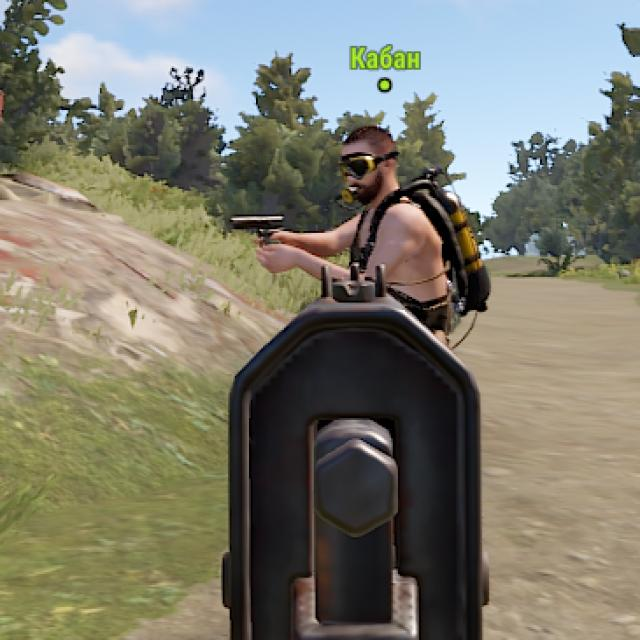Player: (268, 125, 475, 268)
